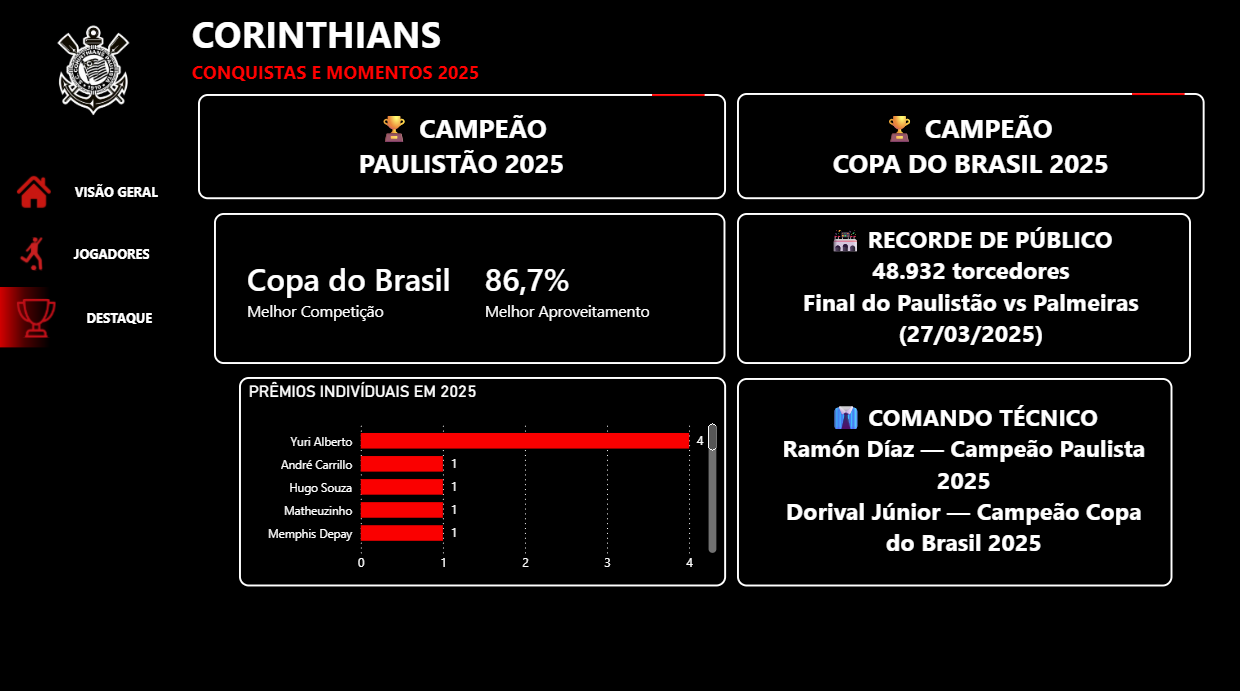

The dashboard page shown, as its layout file describes it:
{"tool":"powerbi","page":{"name":"Destaque","canvas":[1280,720],"ordinal":2},"visuals":[{"type":"actionButton","box":[1.9,221.8,167.3,83.6],"z":0},{"type":"actionButton","box":[1.9,179,152.7,42.8],"z":1000},{"type":"actionButton","box":[1.9,305.4,143,54.5],"z":2000},{"type":"image","box":[1.9,0,192.6,163.4],"z":3000}]}

Visuals, with their boxes on the page's 1280x720 design canvas (x1, y1, x2, y2). These are canvas units, not pixel positions in the 1240x691 screenshot, which may show the page scaled, cropped or inside an application window:
actionButton: {"left": 2, "top": 222, "right": 169, "bottom": 305}
actionButton: {"left": 2, "top": 179, "right": 155, "bottom": 222}
actionButton: {"left": 2, "top": 305, "right": 145, "bottom": 360}
image: {"left": 2, "top": 0, "right": 194, "bottom": 163}
